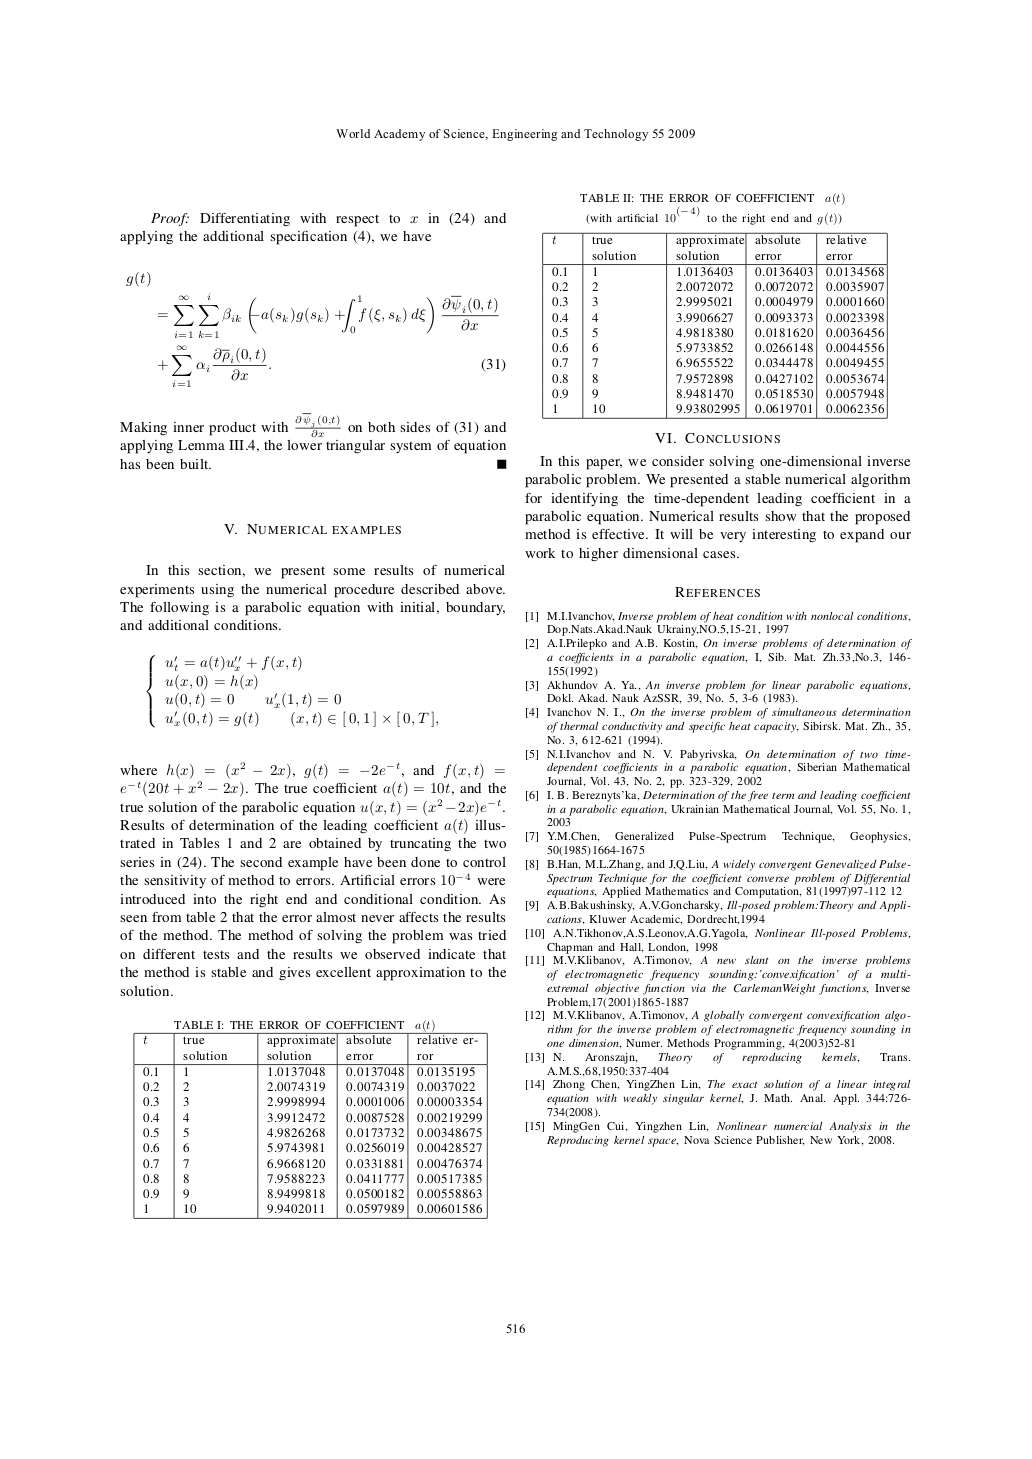Table: (133, 1019, 487, 1219), (542, 231, 887, 419)
formula: (146, 654, 437, 728), (157, 292, 498, 338), (157, 344, 505, 387)
